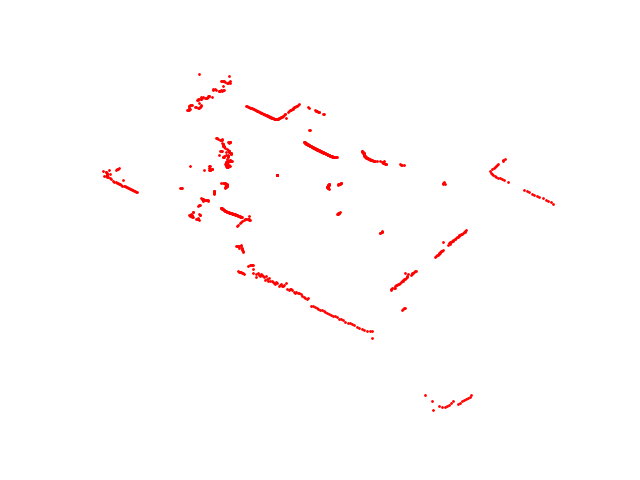person: (211, 179, 230, 197), (324, 179, 345, 192)
